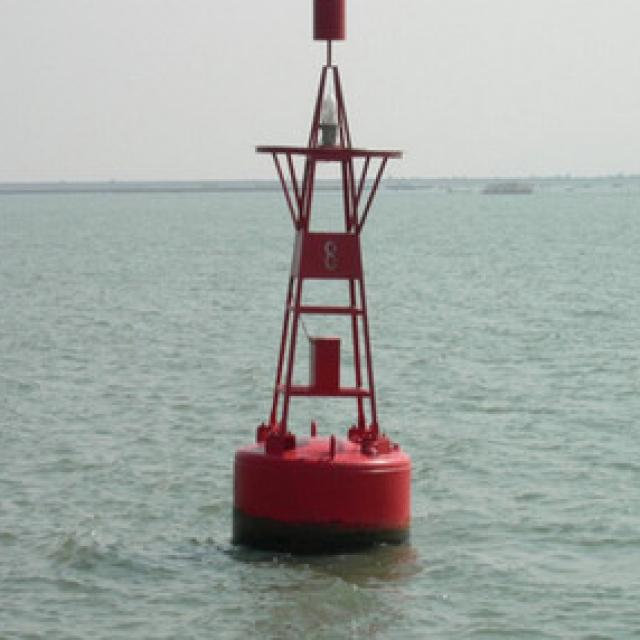buoy: (230, 0, 430, 546)
